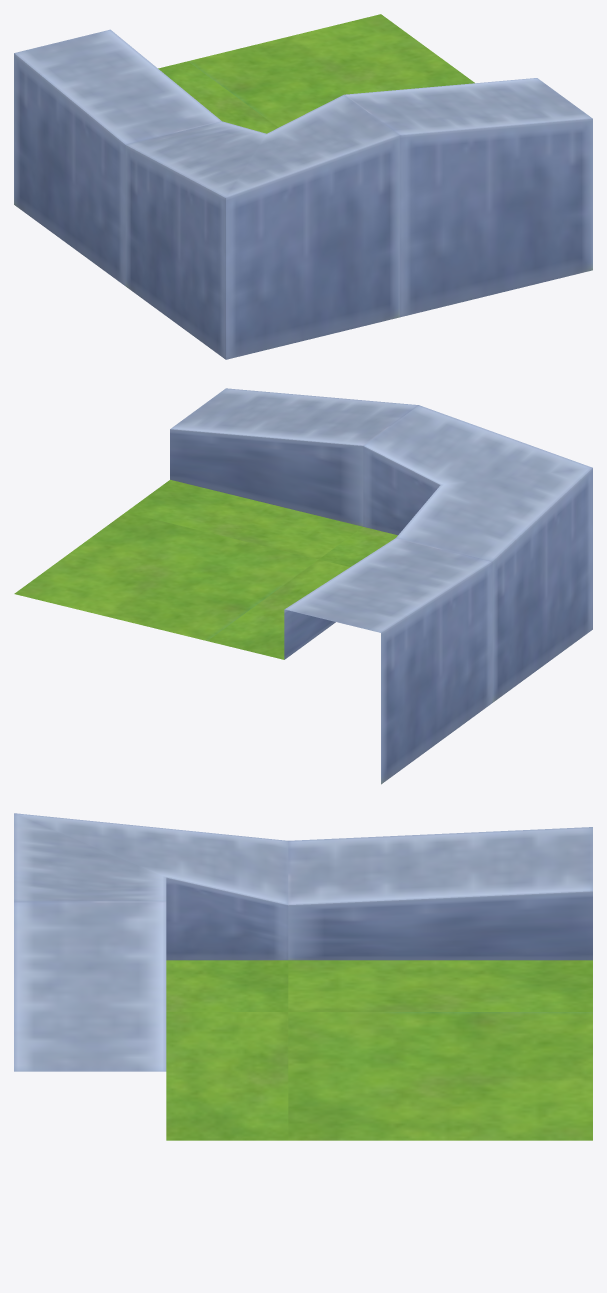
The model's file is stone_corner.glb.
3 renders of one model, top to bottom at view 1: azimuth 30°, elevation 25°; view 2: azimuth 150°, elevation 25°; view 3: azimuth 270°, elevation 25°, orthographic. The views are drawn at different scales.
Parts seen in each view (by area): view 1: stone_corner; view 2: stone_corner; view 3: stone_corner.
Boxes of the visible parts, x1=… form: stone_corner: x1=14, y1=14, x2=592, y2=359; stone_corner: x1=14, y1=388, x2=592, y2=784; stone_corner: x1=14, y1=813, x2=592, y2=1140.
Bounding box in the file's own units: 1.9 × 0.9 × 1.9.
1 material, 1 textured.
